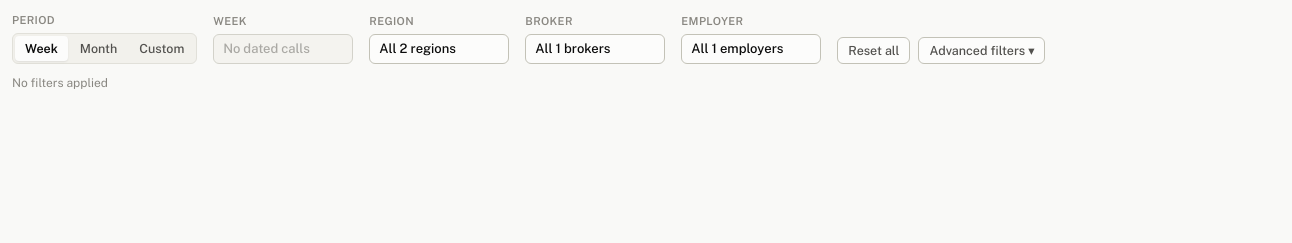
Test: FilterBar › reveals the advanced filters on request
This screenshot has width=1292, height=243.
Click the button "Advanced filters ▾": x=982, y=50 [918,36,1045,64]
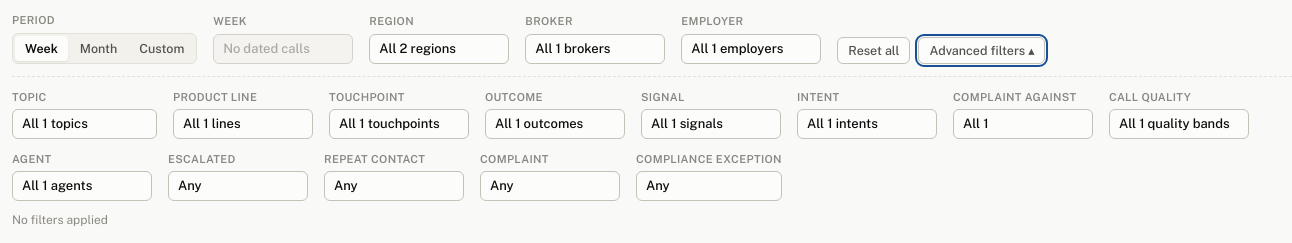
Now the dropdown labelled "Signal" is shown, box [641,109,781,139]
